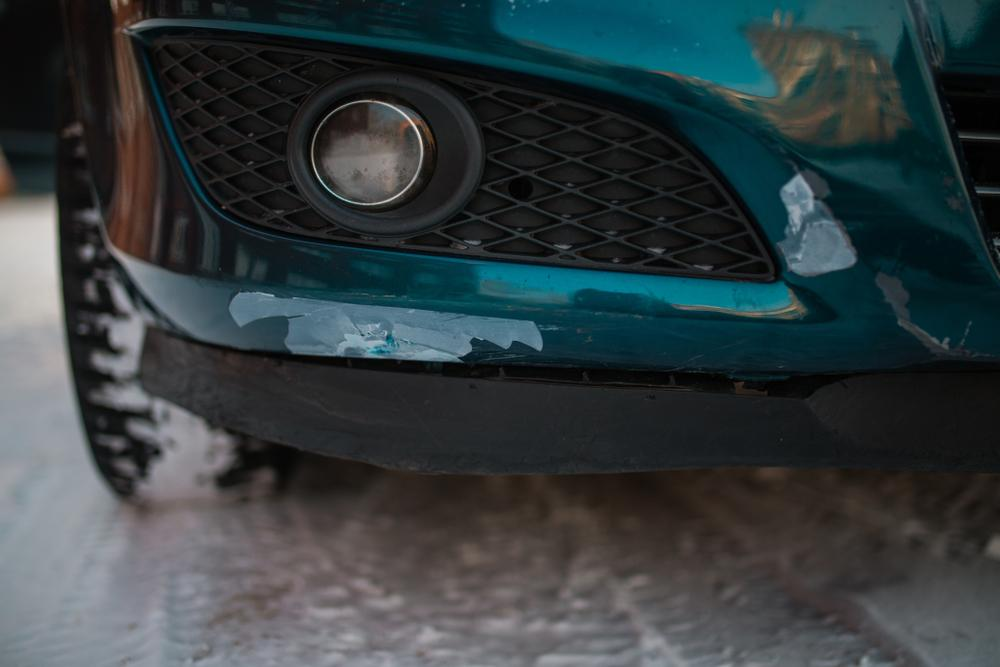scratch: (776, 160, 991, 367), (223, 286, 564, 362)
